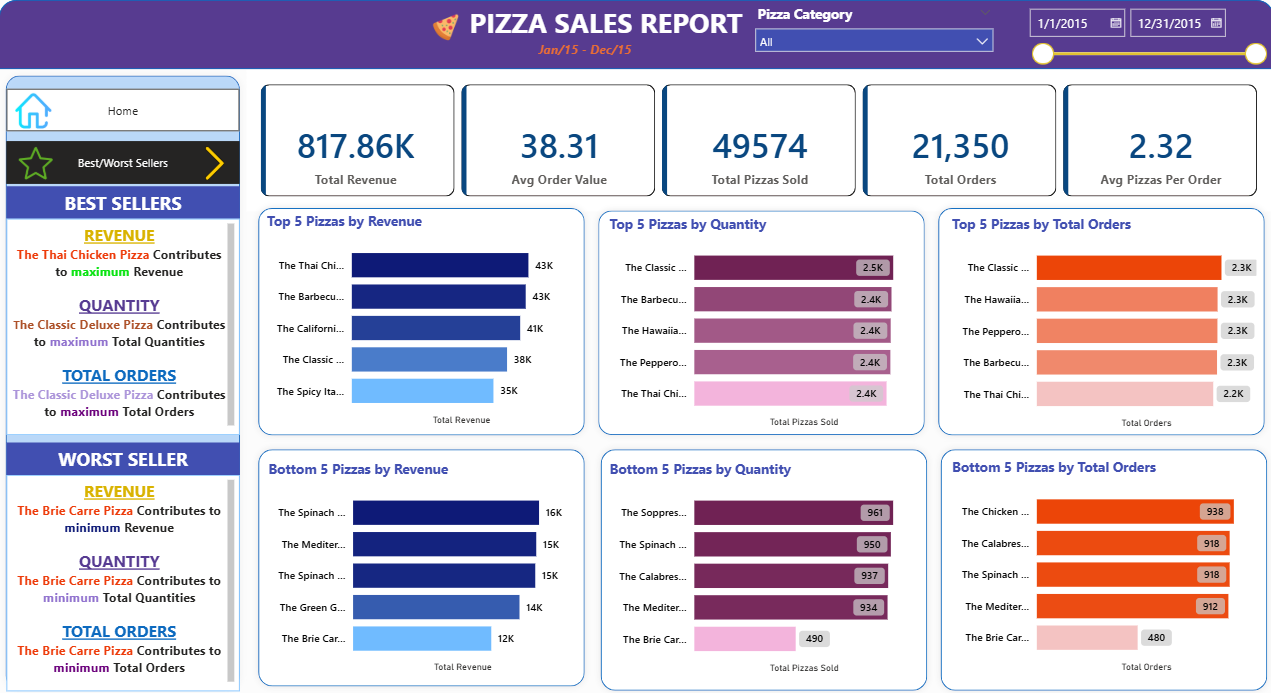

The page's visual inventory and layout, read from the dashboard file:
{"tool":"powerbi","page":{"name":"Best/Worst Sellers","canvas":[1500,820],"ordinal":1},"visuals":[{"type":"shape","box":[0,81.4,291.4,738.6],"z":0},{"type":"cardVisual","fields":{"Data":["pizza_sales.Total Revenue","pizza_sales.Avg Order Value","pizza_sales.Total Pizzas Sold","pizza_sales.Total Orders","pizza_sales.Avg Pizzas Per Order"]},"box":[291.7,81.7,1208.3,166.7],"z":1000},{"type":"shape","box":[0,0,1500,81.4],"z":2000},{"type":"textbox","box":[518.3,0,393.3,63.3],"z":3000},{"type":"textbox","box":[630,43.3,171.7,50],"z":4000},{"type":"image","box":[495,16.7,60,31.7],"z":5000},{"type":"textbox","box":[8.6,218.6,274.3,38.6],"z":6000},{"type":"textbox","box":[8.6,257.1,274.3,254.3],"z":7000},{"type":"textbox","box":[8.6,520,274.3,38.6],"z":8000},{"type":"textbox","box":[8.6,558.6,274.3,254.3],"z":9000},{"type":"slicer","fields":{"Values":["pizza_sales.pizza_category"]},"box":[880,0,300,81.7],"z":10000},{"type":"slicer","fields":{"Values":["pizza_sales.order_date"]},"box":[1200,0,300,81.7],"z":11000},{"type":"shape","box":[296.7,236.7,400,283.3],"z":12000},{"type":"shape","box":[696.7,240,400,280],"z":13000},{"type":"shape","box":[1096.7,236.7,400,283.3],"z":14000},{"type":"shape","box":[296.7,520,400,295],"z":15000},{"type":"shape","box":[700,520,400,300],"z":16000},{"type":"shape","box":[1100,520,400,300],"z":17000},{"type":"barChart","title":"Top 5 Pizzas by Revenue","fields":{"Category":["pizza_sales.pizza_name"],"Y":["pizza_sales.Total Revenue"]},"box":[310,248.2,368.2,256.4],"z":18000},{"type":"barChart","title":"Bottom 5 Pizzas by Revenue","fields":{"Category":["pizza_sales.pizza_name"],"Y":["pizza_sales.Total Revenue"]},"box":[311.7,540,368.3,256.7],"z":19000},{"type":"barChart","title":"Top 5 Pizzas by Quantity","fields":{"Category":["pizza_sales.pizza_name"],"Y":["pizza_sales.Total Pizzas Sold"]},"box":[713.3,251.7,368.3,256.7],"z":20000},{"type":"barChart","title":"Bottom 5 Pizzas by Quantity","fields":{"Category":["pizza_sales.pizza_name"],"Y":["pizza_sales.Total Pizzas Sold"]},"box":[712.9,540,368.6,257.1],"z":21000},{"type":"barChart","title":"Top 5 Pizzas by Total Orders","fields":{"Category":["pizza_sales.pizza_name"],"Y":["pizza_sales.Total Orders"]},"box":[1115.7,251.4,368.6,257.1],"z":22000},{"type":"barChart","title":"Bottom 5 Pizzas by Total Orders","fields":{"Category":["pizza_sales.pizza_name"],"Y":["pizza_sales.Total Orders"]},"box":[1115.7,538.6,368.6,257.1],"z":23000},{"type":"pageNavigator","box":[8.6,104.3,274.3,50],"z":24000},{"type":"pageNavigator","box":[8.6,165.7,274.3,50],"z":25000},{"type":"image","box":[8.6,108.6,62.9,42.9],"z":26000},{"type":"image","box":[215.7,171.4,75.7,40],"z":27000},{"type":"image","box":[8.6,171.4,68.6,40],"z":28000}]}

Visuals, with their boxes in screenshot pixels (x1, y1, x2, y2), scaled from the page's 1500x820 canvas onto the 1271x693 screenshot:
shape: [0, 69, 247, 692]
cardVisual - pizza_sales.Total Revenue x pizza_sales.Avg Order Value: [247, 69, 1270, 210]
shape: [0, 0, 1270, 69]
textbox: [439, 0, 772, 53]
textbox: [534, 37, 679, 79]
image: [419, 14, 470, 41]
textbox: [7, 185, 240, 217]
textbox: [7, 217, 240, 432]
textbox: [7, 439, 240, 472]
textbox: [7, 472, 240, 687]
slicer - pizza_sales.pizza_category: [746, 0, 1000, 69]
slicer - pizza_sales.order_date: [1017, 0, 1270, 69]
shape: [251, 200, 590, 439]
shape: [590, 203, 929, 439]
shape: [929, 200, 1268, 439]
shape: [251, 439, 590, 689]
shape: [593, 439, 932, 692]
shape: [932, 439, 1270, 692]
"Top 5 Pizzas by Revenue" barChart: [263, 210, 575, 426]
"Bottom 5 Pizzas by Revenue" barChart: [264, 456, 576, 673]
"Top 5 Pizzas by Quantity" barChart: [604, 213, 916, 430]
"Bottom 5 Pizzas by Quantity" barChart: [604, 456, 916, 674]
"Top 5 Pizzas by Total Orders" barChart: [945, 212, 1258, 430]
"Bottom 5 Pizzas by Total Orders" barChart: [945, 455, 1258, 672]
pageNavigator: [7, 88, 240, 130]
pageNavigator: [7, 140, 240, 182]
image: [7, 92, 61, 128]
image: [183, 145, 247, 179]
image: [7, 145, 65, 179]
